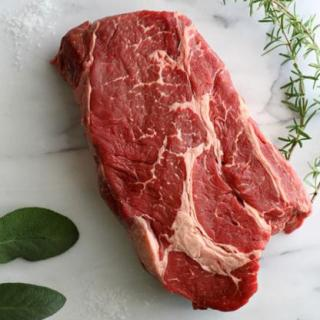Daging Sapi: (56, 11, 313, 315)
